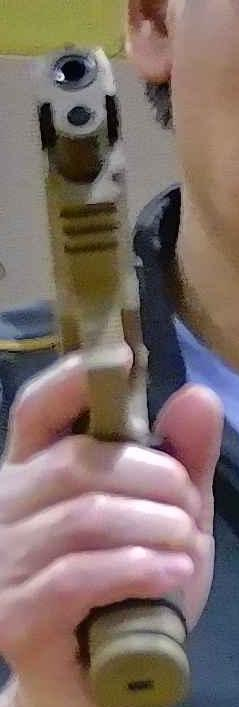gun: (1, 1, 239, 707)
